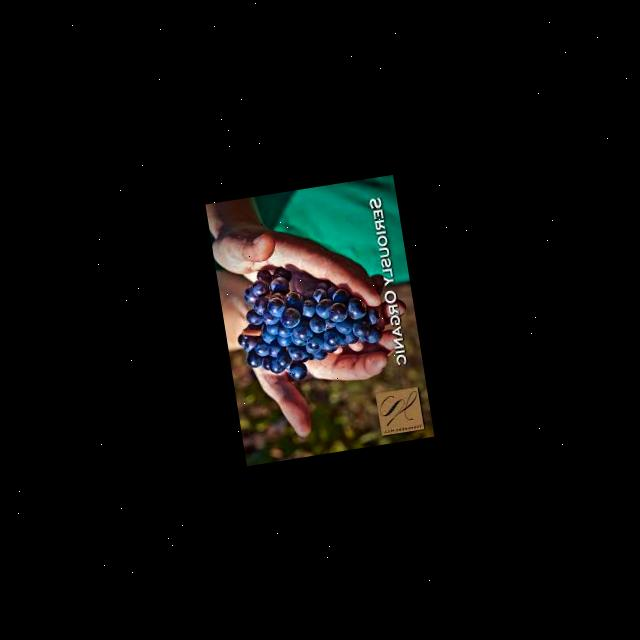grape: (227, 251, 388, 388)
